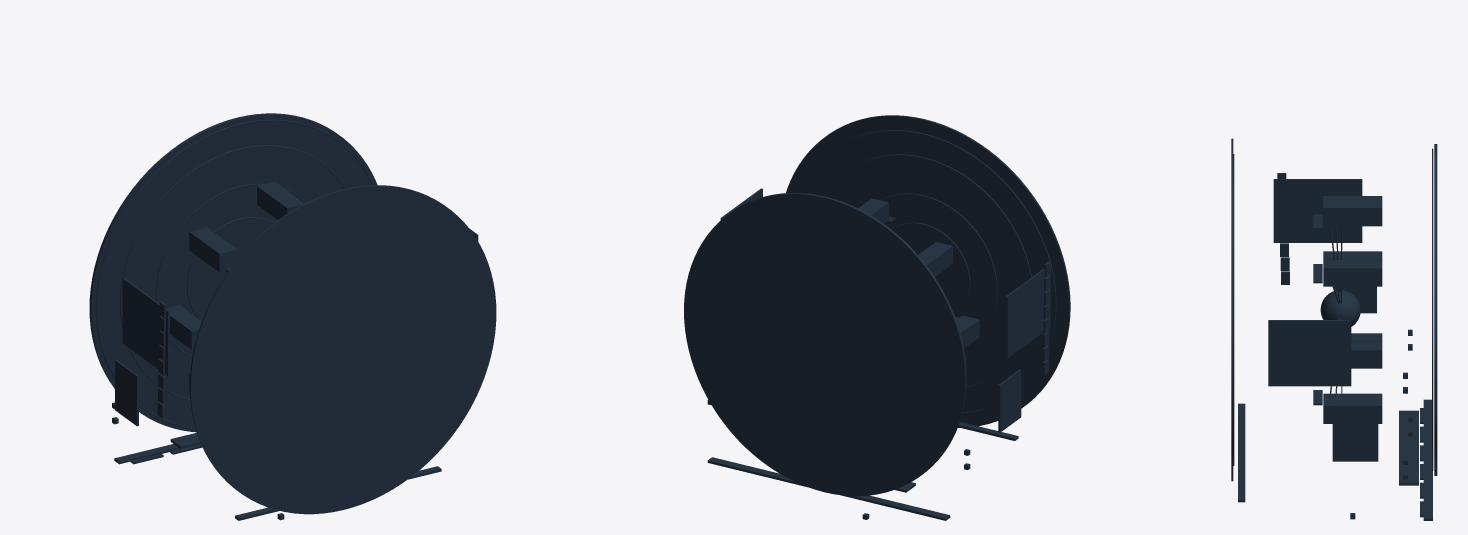
Rendered from 06_data_fusion_reactor.glb.
3 renders of one model, left to right at view 1: azimuth 30°, elevation 25°; view 2: azimuth 150°, elevation 25°; view 3: azimuth 270°, elevation 25°, orthographic. The views are drawn at different scales.
Visible parts, largest first — view 1: 06_data_fusion_reactor__ceiling_dark_disc, 06_data_fusion_reactor__circular_command_floor_black_chrome, 06_data_fusion_reactor__UI_left_primary_panel, 06_data_fusion_reactor__SOURCE_TOWER_03_api_docs_satellite_s, 06_data_fusion_reactor__UI_left_secondary_panel, 06_data_fusion_reactor__SOURCE_TOWER_02_api_docs_satellite_s, 06_data_fusion_reactor__floor_emissive_cyan_ring_radius_6.0, 06_data_fusion_reactor__SOURCE_TOWER_04_api_docs_satellite_s, 06_data_fusion_reactor__floor_emissive_cyan_ring_radius_5.0; view 2: 06_data_fusion_reactor__circular_command_floor_black_chrome, 06_data_fusion_reactor__ceiling_dark_disc, 06_data_fusion_reactor__UI_left_primary_panel, 06_data_fusion_reactor__UI_bottom_active_context_rail, 06_data_fusion_reactor__UI_left_secondary_panel, 06_data_fusion_reactor__ceiling_light_ring_radius_5.8, 06_data_fusion_reactor__SOURCE_TOWER_03_api_docs_satellite_s, 06_data_fusion_reactor__ceiling_light_ring_radius_4.8; view 3: 06_data_fusion_reactor__UI_right_primary_panel, 06_data_fusion_reactor__UI_left_primary_panel, 06_data_fusion_reactor__UI_right_secondary_panel, 06_data_fusion_reactor__SOURCE_TOWER_02_api_docs_satellite_s, 06_data_fusion_reactor__SOURCE_TOWER_01_api_docs_satellite_s, 06_data_fusion_reactor__UI_bottom_command_dock, 06_data_fusion_reactor__circular_command_floor_black_chrome, 06_data_fusion_reactor__UI_bottom_active_context_rail, 06_data_fusion_reactor__HERO_DATA_FUSION_REACTOR_CORE, 06_data_fusion_reactor__ceiling_dark_disc, 06_data_fusion_reactor__SOURCE_TOWER_00_api_docs_satellite_s, 06_data_fusion_reactor__UI_top_nav_holographic_rail (+5 smaller).
Boxes of the visible parts, bbox=[...] form: 06_data_fusion_reactor__ceiling_dark_disc: bbox=[189, 185, 496, 514]; 06_data_fusion_reactor__circular_command_floor_black_chrome: bbox=[89, 113, 377, 432]; 06_data_fusion_reactor__UI_left_primary_panel: bbox=[122, 278, 169, 376]; 06_data_fusion_reactor__SOURCE_TOWER_03_api_docs_satellite_s: bbox=[189, 227, 237, 272]; 06_data_fusion_reactor__UI_left_secondary_panel: bbox=[115, 359, 138, 426]; 06_data_fusion_reactor__SOURCE_TOWER_02_api_docs_satellite_s: bbox=[257, 181, 304, 219]; 06_data_fusion_reactor__floor_emissive_cyan_ring_radius_6.0: bbox=[96, 119, 372, 427]; 06_data_fusion_reactor__SOURCE_TOWER_04_api_docs_satellite_s: bbox=[166, 305, 201, 349]; 06_data_fusion_reactor__floor_emissive_cyan_ring_radius_5.0: bbox=[120, 145, 345, 400]; 06_data_fusion_reactor__circular_command_floor_black_chrome: bbox=[684, 193, 966, 496]; 06_data_fusion_reactor__ceiling_dark_disc: bbox=[786, 115, 1070, 427]; 06_data_fusion_reactor__UI_left_primary_panel: bbox=[1005, 268, 1050, 358]; 06_data_fusion_reactor__UI_bottom_active_context_rail: bbox=[707, 457, 950, 520]; 06_data_fusion_reactor__UI_left_secondary_panel: bbox=[998, 369, 1021, 432]; 06_data_fusion_reactor__ceiling_light_ring_radius_5.8: bbox=[800, 130, 1056, 413]; 06_data_fusion_reactor__SOURCE_TOWER_03_api_docs_satellite_s: bbox=[918, 242, 952, 276]; 06_data_fusion_reactor__ceiling_light_ring_radius_4.8: bbox=[826, 154, 1031, 388]; 06_data_fusion_reactor__UI_right_primary_panel: bbox=[1268, 320, 1351, 386]; 06_data_fusion_reactor__UI_left_primary_panel: bbox=[1273, 179, 1362, 242]; 06_data_fusion_reactor__UI_right_secondary_panel: bbox=[1332, 405, 1378, 461]; 06_data_fusion_reactor__SOURCE_TOWER_02_api_docs_satellite_s: bbox=[1323, 199, 1382, 226]; 06_data_fusion_reactor__SOURCE_TOWER_01_api_docs_satellite_s: bbox=[1323, 260, 1382, 286]; 06_data_fusion_reactor__UI_bottom_command_dock: bbox=[1399, 410, 1418, 485]; 06_data_fusion_reactor__circular_command_floor_black_chrome: bbox=[1434, 144, 1437, 475]; 06_data_fusion_reactor__UI_bottom_active_context_rail: bbox=[1423, 399, 1432, 520]; 06_data_fusion_reactor__HERO_DATA_FUSION_REACTOR_CORE: bbox=[1320, 290, 1360, 326]; 06_data_fusion_reactor__ceiling_dark_disc: bbox=[1231, 138, 1233, 481]; 06_data_fusion_reactor__SOURCE_TOWER_00_api_docs_satellite_s: bbox=[1351, 342, 1382, 368]; 06_data_fusion_reactor__UI_top_nav_holographic_rail: bbox=[1238, 403, 1245, 502].
Bounding box in the file's own units: 18 × 16.59 × 10.13.
